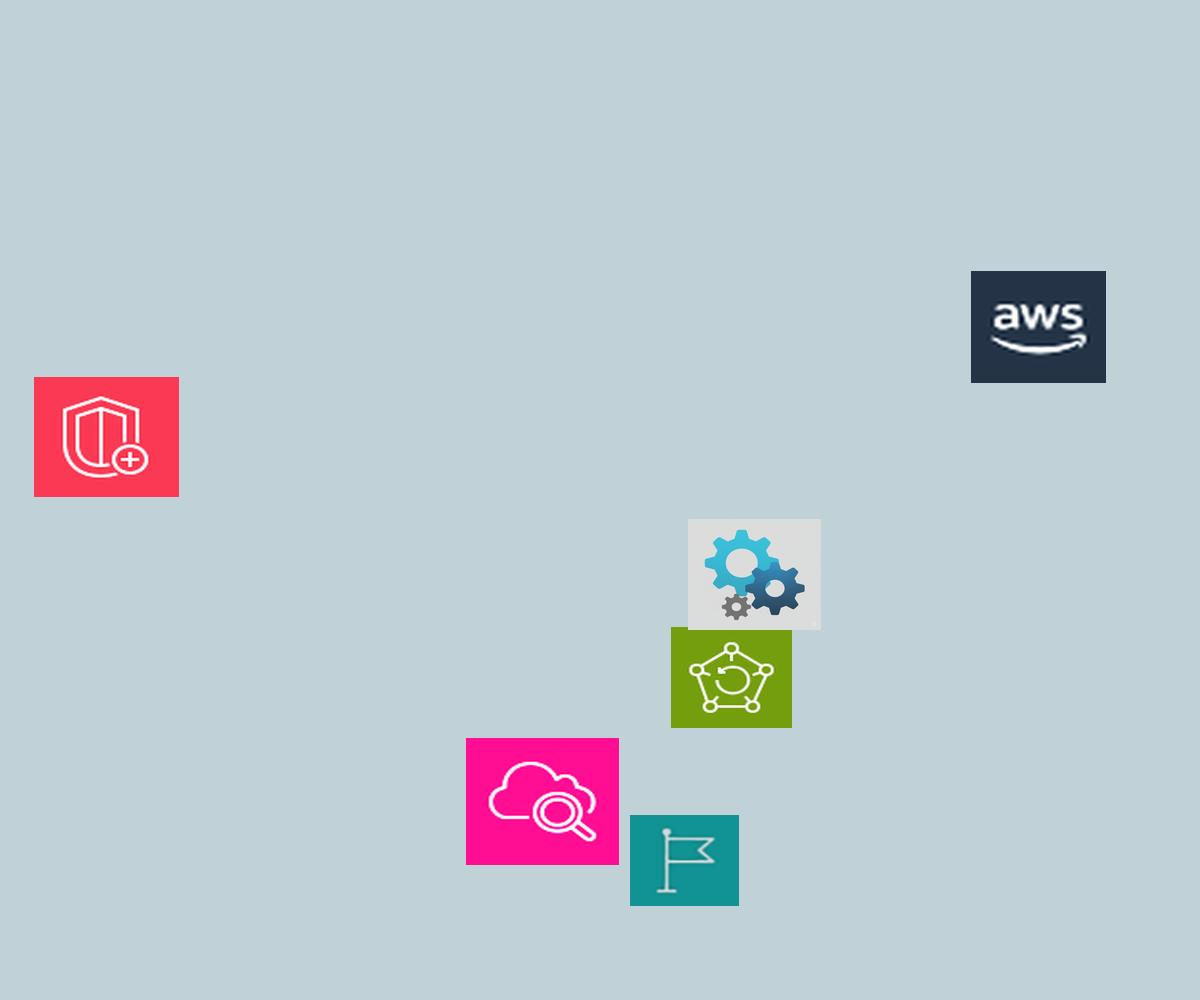AWS-Backup: (671, 627, 792, 728)
AWS-Cloud-logo: (971, 271, 1106, 383)
AWS-CloudWatch: (466, 738, 619, 865)
AWS-Region: (630, 815, 739, 906)
AWS-Shield: (34, 377, 179, 497)
Azure_api: (688, 519, 821, 630)
